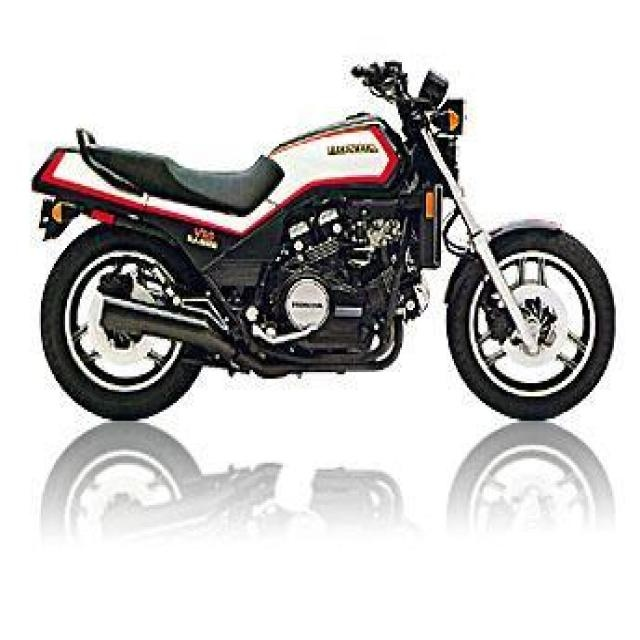Motorcycle: (39, 56, 612, 430)
